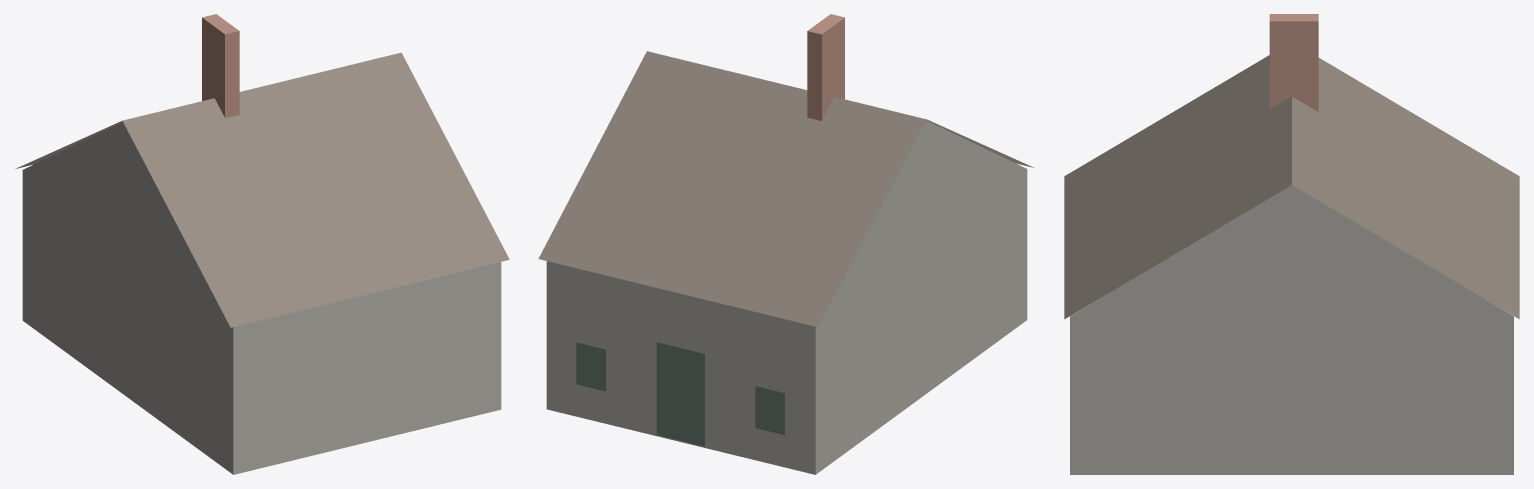
File: recon_1835_north_d6_021__recommended_1835.glb
3 renders of one model, left to right at view 1: azimuth 30°, elevation 25°; view 2: azimuth 150°, elevation 25°; view 3: azimuth 270°, elevation 25°, orthographic. The views are drawn at different scales.
Visible parts, largest first — view 1: recon_1835_north_d6_021__recommended_1835; view 2: recon_1835_north_d6_021__recommended_1835; view 3: recon_1835_north_d6_021__recommended_1835.
Boxes of the visible parts, left/top/right/bottom form: recon_1835_north_d6_021__recommended_1835: left=15, top=14, right=509, bottom=474; recon_1835_north_d6_021__recommended_1835: left=538, top=14, right=1034, bottom=474; recon_1835_north_d6_021__recommended_1835: left=1064, top=14, right=1519, bottom=474.
Bounding box in the file's own units: 6.99 × 8.37 × 9.38.
